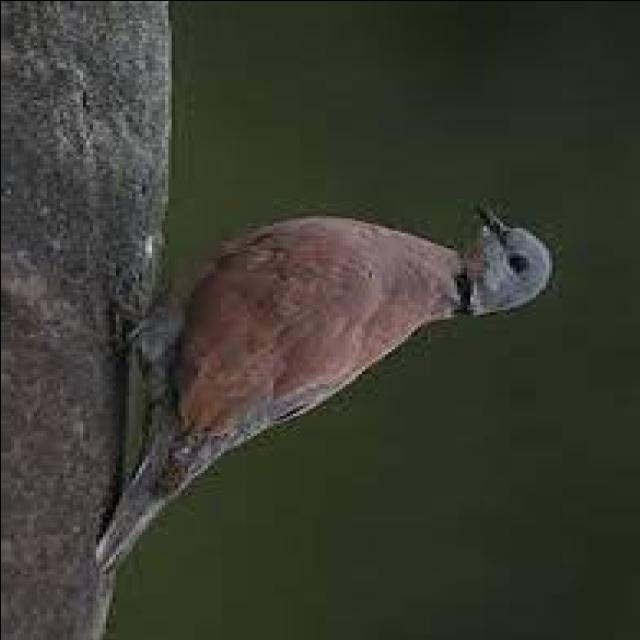pigeon: (58, 186, 580, 570)
